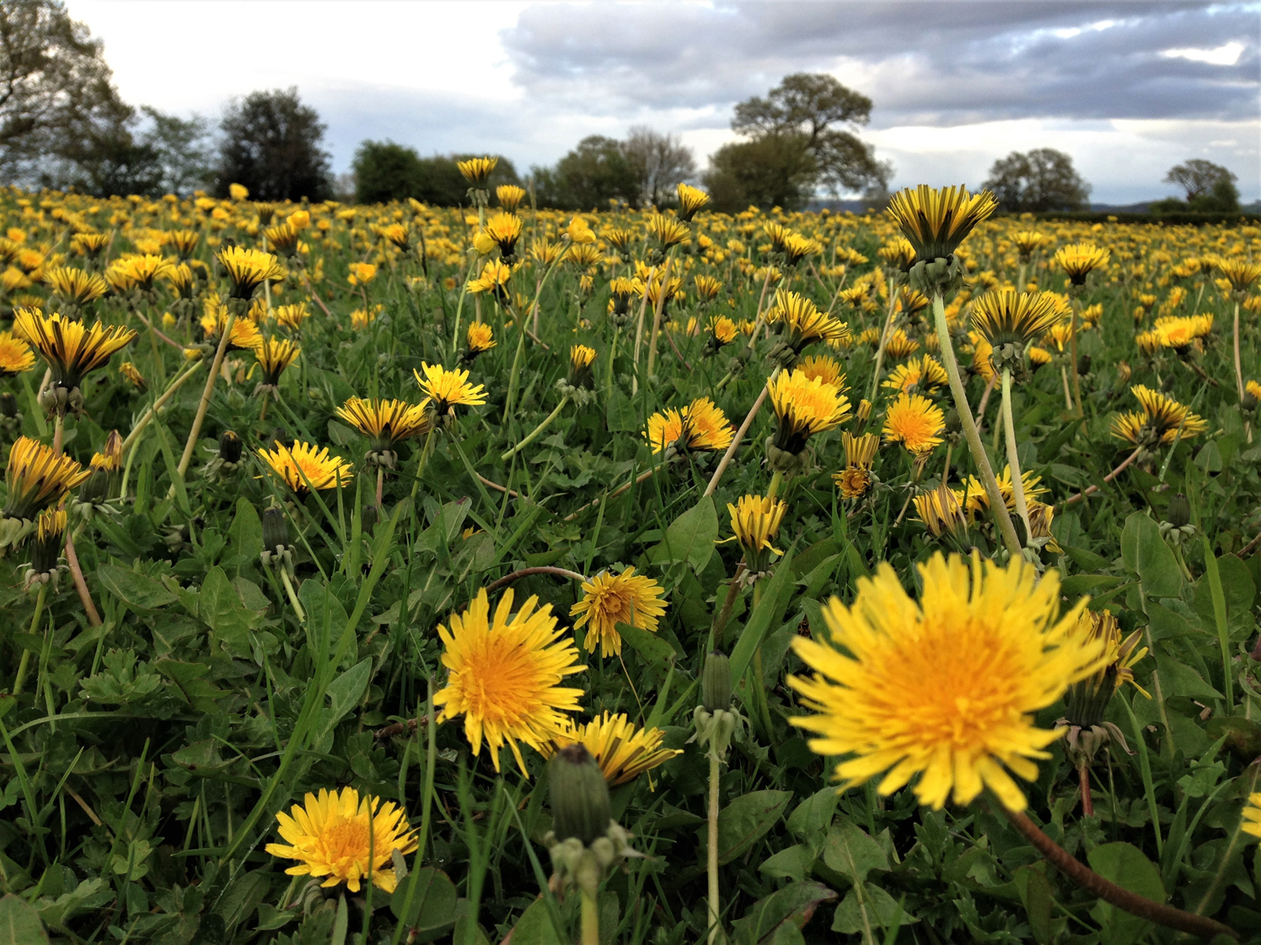begonvil: (779, 542, 1111, 833), (417, 579, 582, 784), (523, 703, 667, 908), (251, 778, 420, 910), (1064, 592, 1160, 800), (906, 467, 1067, 570), (874, 171, 1003, 293), (963, 272, 1081, 396), (552, 558, 679, 669), (2, 432, 94, 580), (1103, 378, 1210, 482), (761, 364, 857, 468), (251, 433, 362, 519), (333, 378, 425, 477), (646, 386, 741, 479), (112, 240, 197, 333), (774, 272, 846, 376), (65, 304, 130, 417), (410, 351, 490, 439), (1132, 309, 1236, 374), (882, 379, 949, 477), (218, 243, 282, 330), (1044, 233, 1119, 304), (36, 253, 113, 309), (247, 332, 305, 403), (764, 214, 823, 283), (1208, 248, 1261, 317), (456, 149, 506, 220), (729, 496, 786, 555), (646, 209, 699, 272), (484, 204, 539, 264), (0, 322, 36, 401), (704, 312, 756, 362), (457, 315, 499, 372)
